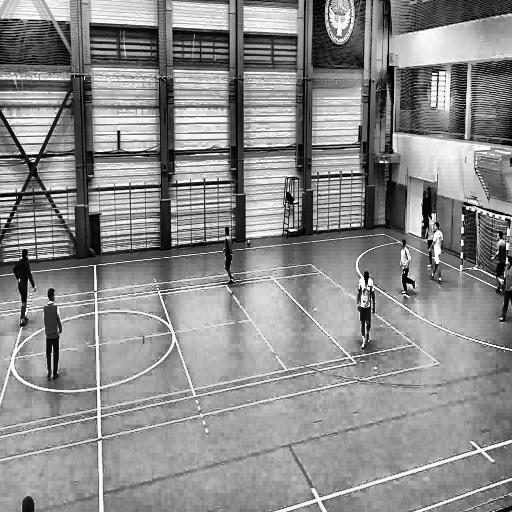ball: (245, 236, 252, 248)
player: (43, 287, 64, 382), (13, 249, 36, 325), (357, 269, 377, 350), (398, 236, 418, 299), (428, 222, 445, 286), (220, 226, 236, 288), (499, 254, 512, 326), (492, 228, 505, 294), (424, 215, 435, 270)
